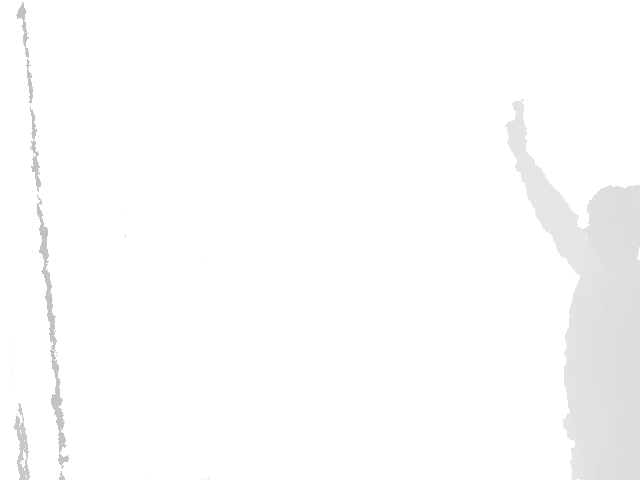hand: (505, 98, 528, 161)
head: (582, 182, 640, 257)
person: (505, 99, 640, 480)
